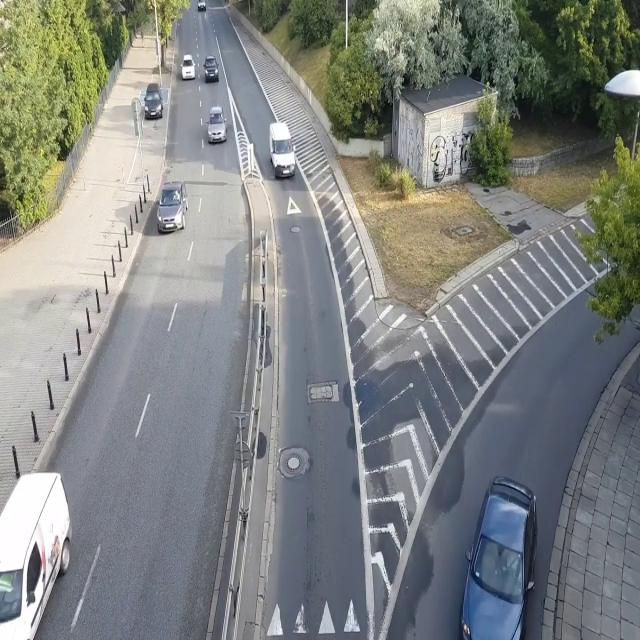car: (458, 472, 540, 640), (155, 179, 188, 235), (205, 104, 228, 147), (144, 83, 163, 119), (202, 54, 220, 86), (180, 54, 196, 81), (196, 0, 207, 12)
van: (1, 472, 74, 640), (269, 121, 296, 179)
